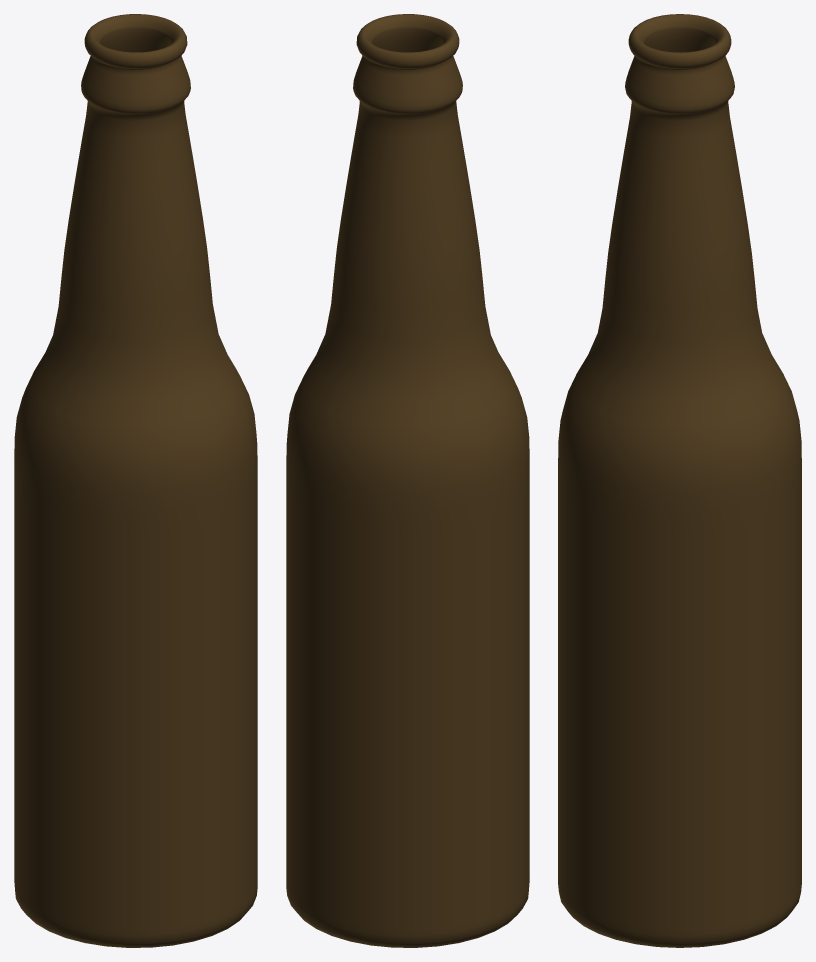
File: beer_bottle.fbx
3 renders of one model, left to right at view 1: azimuth 30°, elevation 25°; view 2: azimuth 150°, elevation 25°; view 3: azimuth 270°, elevation 25°, orthographic.
Visible parts, largest first — view 1: Cylinder.001; view 2: Cylinder.001; view 3: Cylinder.001.
Part boxes in pixels (x1,y1,x2,y2): Cylinder.001: (14,14,257,947); Cylinder.001: (286,14,529,947); Cylinder.001: (558,14,801,947).
Bounding box in the file's own units: 6.37 × 25.05 × 6.37.
